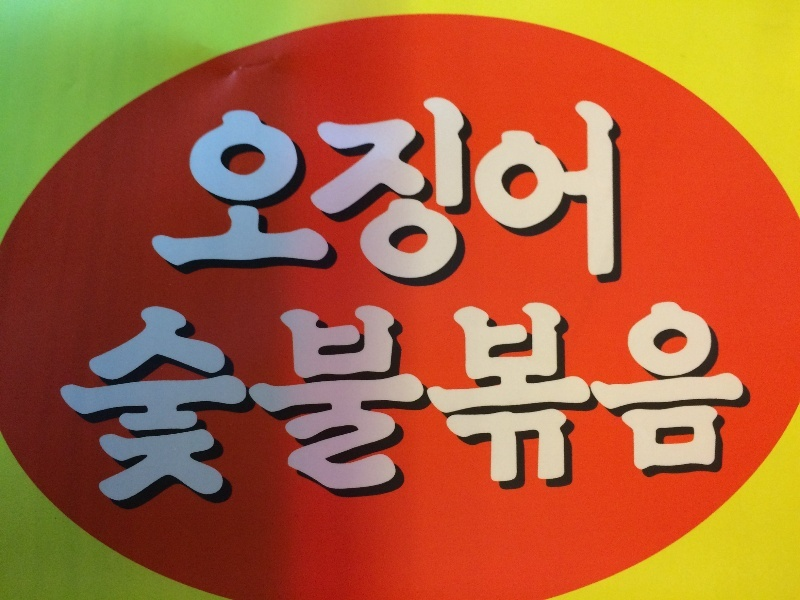text: (65, 301, 80, 518), (81, 301, 96, 518), (97, 301, 112, 518), (113, 301, 128, 518), (129, 301, 144, 518), (145, 301, 160, 518), (161, 301, 176, 518), (177, 301, 192, 518), (193, 301, 208, 518), (209, 301, 224, 518), (225, 301, 240, 518), (241, 301, 256, 518), (257, 301, 272, 518), (273, 301, 288, 518), (289, 301, 304, 518), (305, 301, 320, 518), (321, 301, 336, 518), (337, 301, 352, 518), (353, 301, 368, 518), (369, 301, 384, 518), (385, 301, 400, 518), (401, 301, 416, 518), (417, 301, 432, 518), (433, 301, 448, 518), (449, 301, 464, 518), (465, 301, 480, 518), (481, 301, 496, 518), (497, 301, 512, 518), (513, 301, 528, 518), (529, 301, 544, 518), (545, 301, 560, 518), (561, 301, 576, 518), (577, 301, 592, 518), (593, 301, 608, 518), (609, 301, 624, 518), (625, 301, 640, 518), (641, 301, 656, 518), (657, 301, 672, 518), (673, 301, 688, 518), (689, 301, 704, 518), (705, 301, 720, 518), (721, 301, 736, 518), (737, 301, 751, 518), (177, 92, 192, 293), (193, 92, 208, 293), (209, 92, 224, 293), (225, 92, 240, 293), (241, 92, 256, 293), (257, 92, 272, 293), (273, 92, 288, 293), (289, 92, 304, 293), (305, 92, 320, 293), (321, 92, 336, 293), (337, 92, 352, 293), (353, 92, 368, 293), (369, 92, 384, 293), (385, 92, 400, 293), (401, 92, 416, 293), (417, 92, 432, 293), (433, 92, 448, 293), (449, 92, 464, 293), (465, 92, 480, 293), (481, 92, 496, 293), (497, 92, 512, 293), (513, 92, 528, 293), (529, 92, 544, 293), (545, 92, 560, 293), (561, 92, 576, 293), (577, 92, 592, 293), (593, 92, 608, 293), (609, 92, 622, 293), (55, 301, 64, 518), (168, 92, 176, 293)
